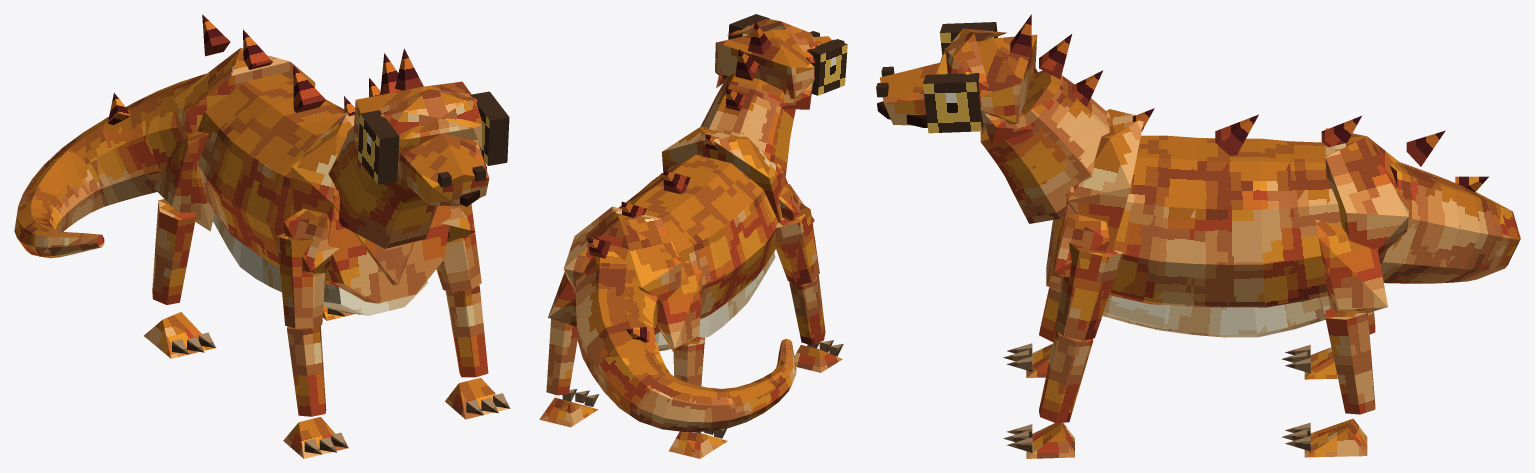
The model's file is kithflare_rd_lite.glb.
3 views of the same model, side by side, from view 1: azimuth 30°, elevation 25°; view 2: azimuth 150°, elevation 25°; view 3: azimuth 270°, elevation 25° (orthographic). The views are drawn at different scales.
Visible parts, largest first — view 1: torso, tail, neck, chest, snout, hip, shin_h~x, upperarm_f~x, thigh~x, belly, cranium, forearm_f (+16 smaller); view 2: tail, torso, hip, neck, chest, cranium, thigh~x, upperarm_f~x, shin_h, forearm_f~x, eye~x, belly (+15 smaller); view 3: torso, tail, neck, hip, belly, chest, thigh, upperarm_f, cranium, shin_h, eye, forearm_f (+13 smaller).
Part boxes in pixels (left/top/right/bottom): torso: left=197, top=73, right=451, bottom=303; tail: left=14, top=73, right=206, bottom=258; neck: left=328, top=126, right=437, bottom=248; chest: left=291, top=112, right=414, bottom=288; snout: left=397, top=133, right=489, bottom=206; hip: left=173, top=48, right=315, bottom=141; shin_h~x: left=152, top=199, right=195, bottom=304; upperarm_f~x: left=277, top=233, right=325, bottom=328; thigh~x: left=154, top=131, right=214, bottom=231; belly: left=213, top=214, right=427, bottom=315; cranium: left=353, top=81, right=481, bottom=177; forearm_f: left=445, top=285, right=488, bottom=377; tail: left=575, top=251, right=796, bottom=431; torso: left=618, top=154, right=787, bottom=334; hip: left=564, top=206, right=681, bottom=307; neck: left=700, top=73, right=795, bottom=176; chest: left=662, top=127, right=784, bottom=222; cranium: left=715, top=29, right=819, bottom=98; thigh~x: left=657, top=260, right=702, bottom=351; upperarm_f~x: left=775, top=202, right=819, bottom=286; shin_h: left=546, top=319, right=577, bottom=395; forearm_f~x: left=789, top=275, right=825, bottom=345; eye~x: left=806, top=39, right=847, bottom=95; belly: left=655, top=252, right=775, bottom=351; torso: left=1046, top=135, right=1341, bottom=307; tail: left=1380, top=161, right=1520, bottom=283; neck: left=980, top=70, right=1109, bottom=223; hip: left=1325, top=128, right=1408, bottom=260; belly: left=1102, top=295, right=1329, bottom=337; chest: left=1047, top=109, right=1143, bottom=263; thigh: left=1315, top=220, right=1387, bottom=312; upperarm_f: left=1055, top=242, right=1123, bottom=340; cranium: left=936, top=34, right=1037, bottom=126; shin_h: left=1325, top=308, right=1375, bottom=414; eye: left=923, top=73, right=983, bottom=133; forearm_f: left=1039, top=330, right=1093, bottom=422.
Bounding box in the file's own units: 1.06 × 1.25 × 1.85.
7 materials, 7 textured.
